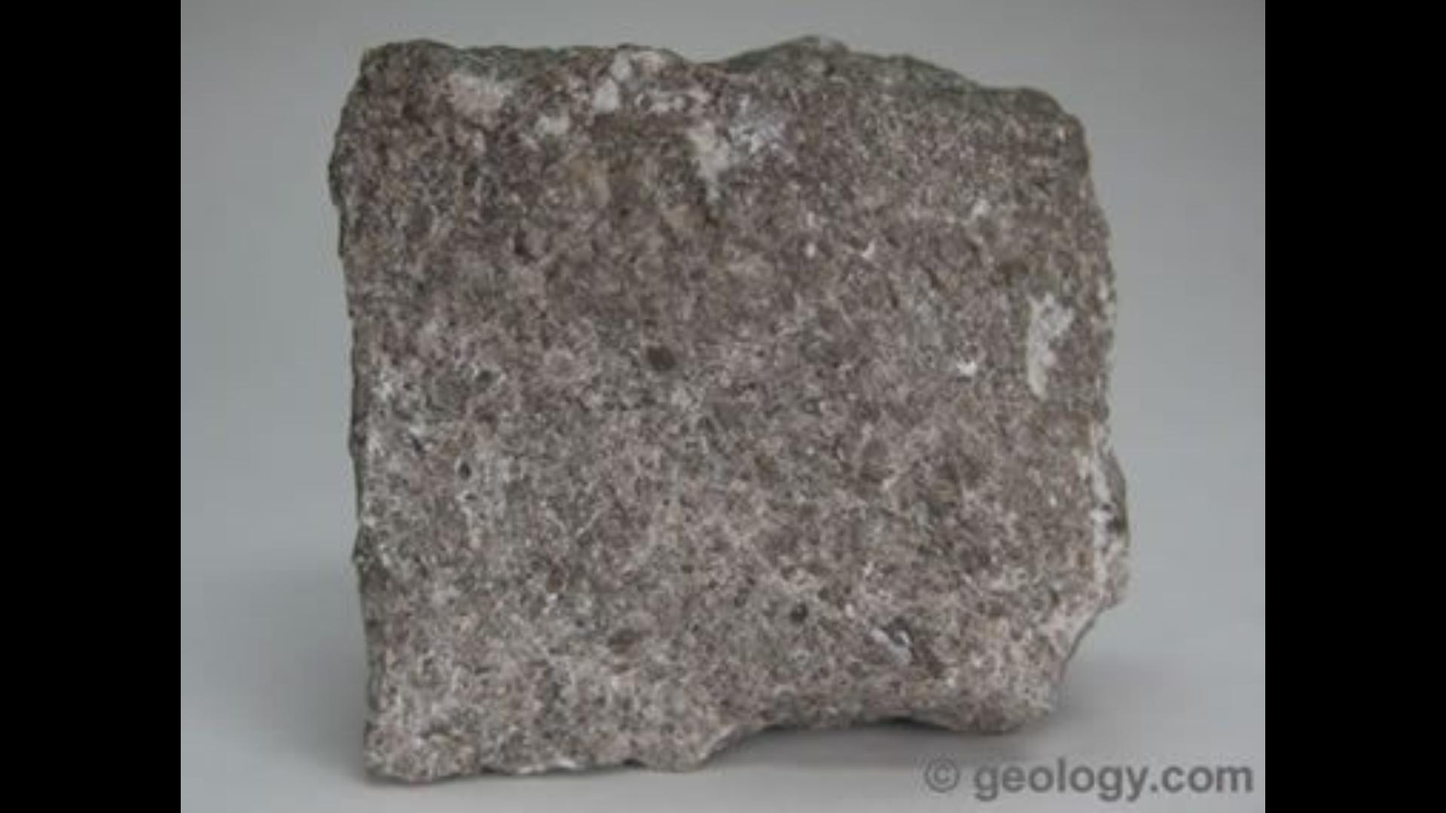rock: (329, 40, 1125, 779)
